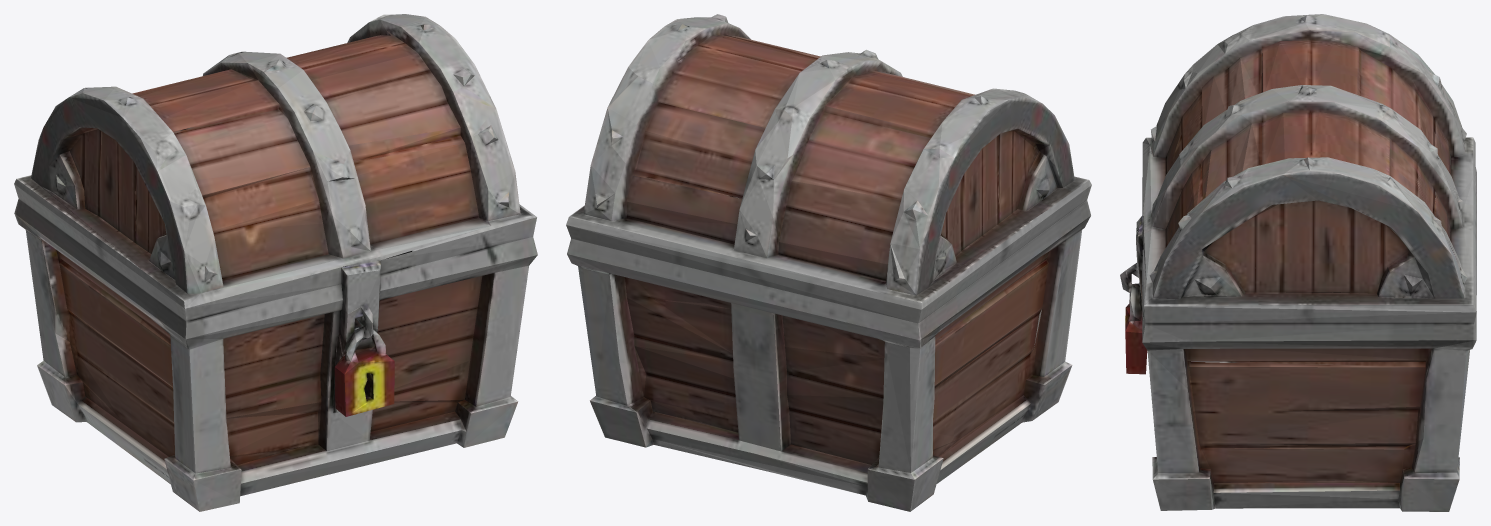
Rendered from chest_silver_lock_lod0.glb.
3 views of the same model, side by side, from view 1: azimuth 30°, elevation 25°; view 2: azimuth 150°, elevation 25°; view 3: azimuth 270°, elevation 25° (orthographic). The views are drawn at different scales.
Visible parts, largest first — view 1: chest_silver_lock_lod0; view 2: chest_silver_lock_lod0; view 3: chest_silver_lock_lod0.
Boxes of the visible parts, x1=… form: chest_silver_lock_lod0: x1=14, y1=14, x2=537, y2=511; chest_silver_lock_lod0: x1=566, y1=14, x2=1091, y2=511; chest_silver_lock_lod0: x1=1120, y1=14, x2=1476, y2=511.
Bounding box in the file's own units: 0.899 × 0.8774 × 0.8037.
Materials: 1 (1 with a texture image).
